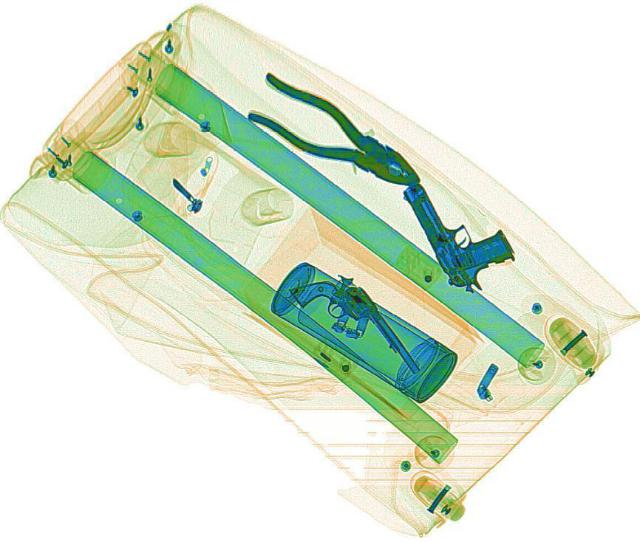Gun: (286, 264, 424, 394), (396, 163, 526, 297)
Pliers: (231, 67, 437, 202)
